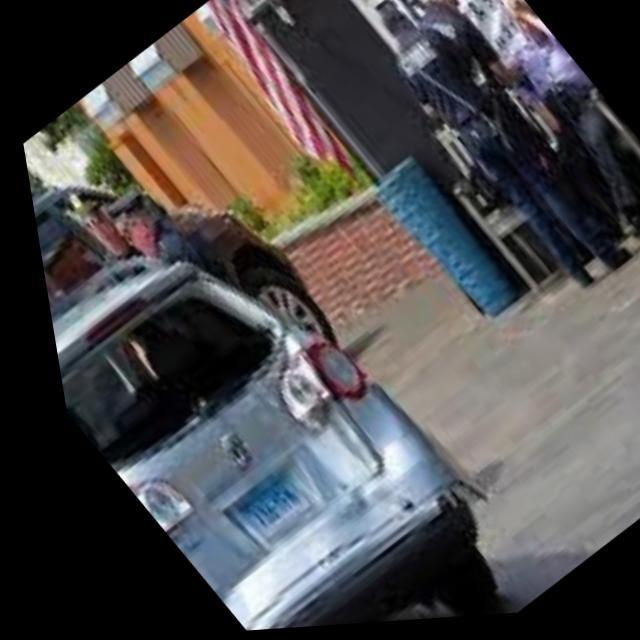dent: (46, 264, 448, 633)
